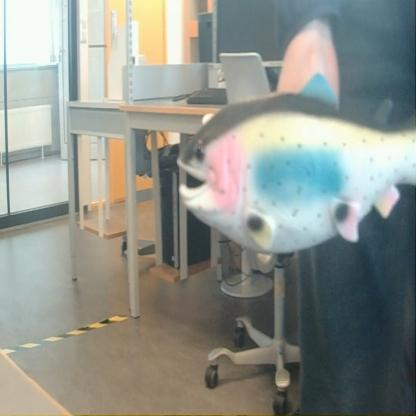rubberfish: (173, 70, 416, 259)
